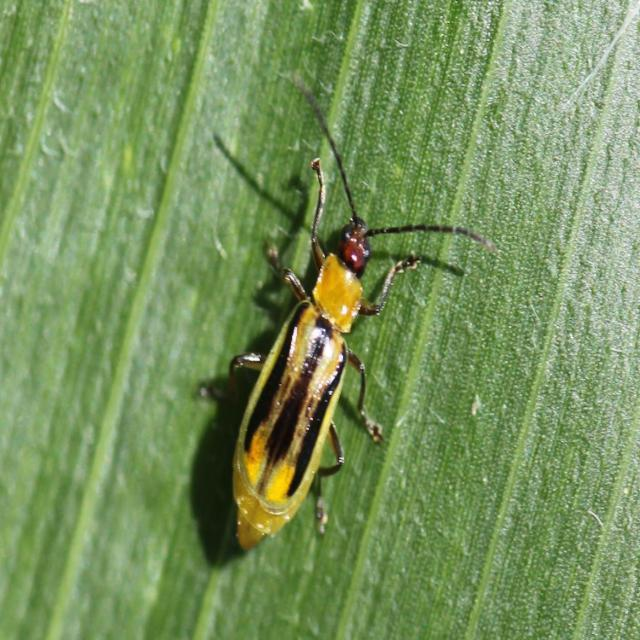trips: (198, 68, 502, 553)
